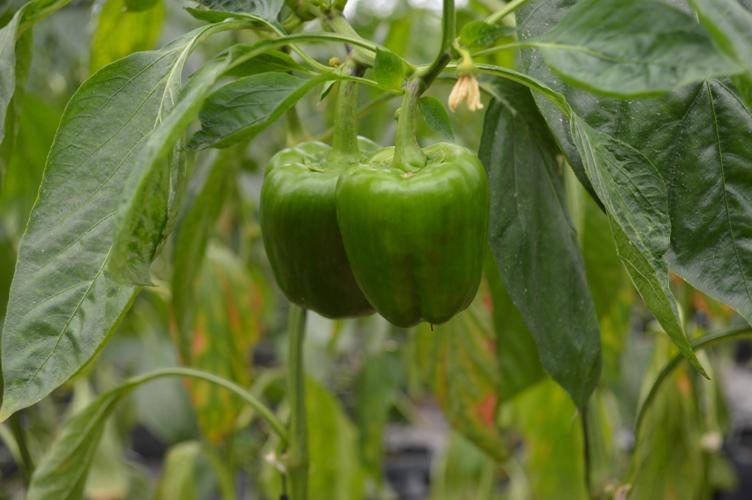BellPepper: (334, 142, 490, 324), (261, 135, 366, 319)
